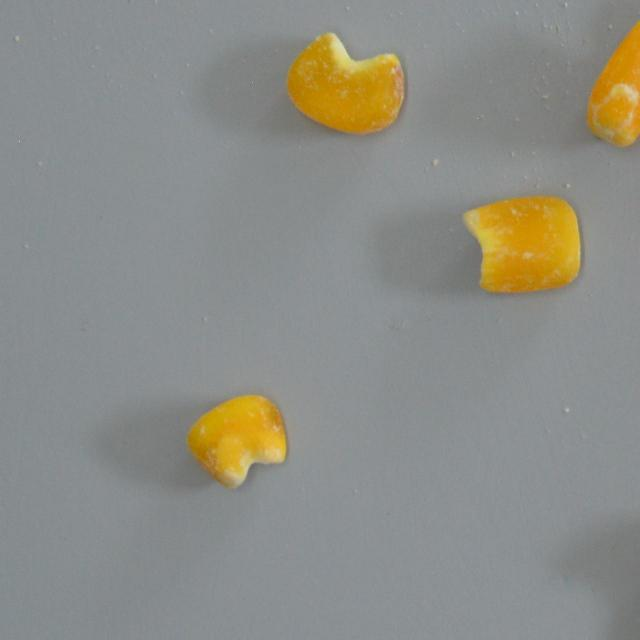pelicula: (284, 30, 404, 137), (186, 393, 286, 488), (587, 16, 640, 145)
